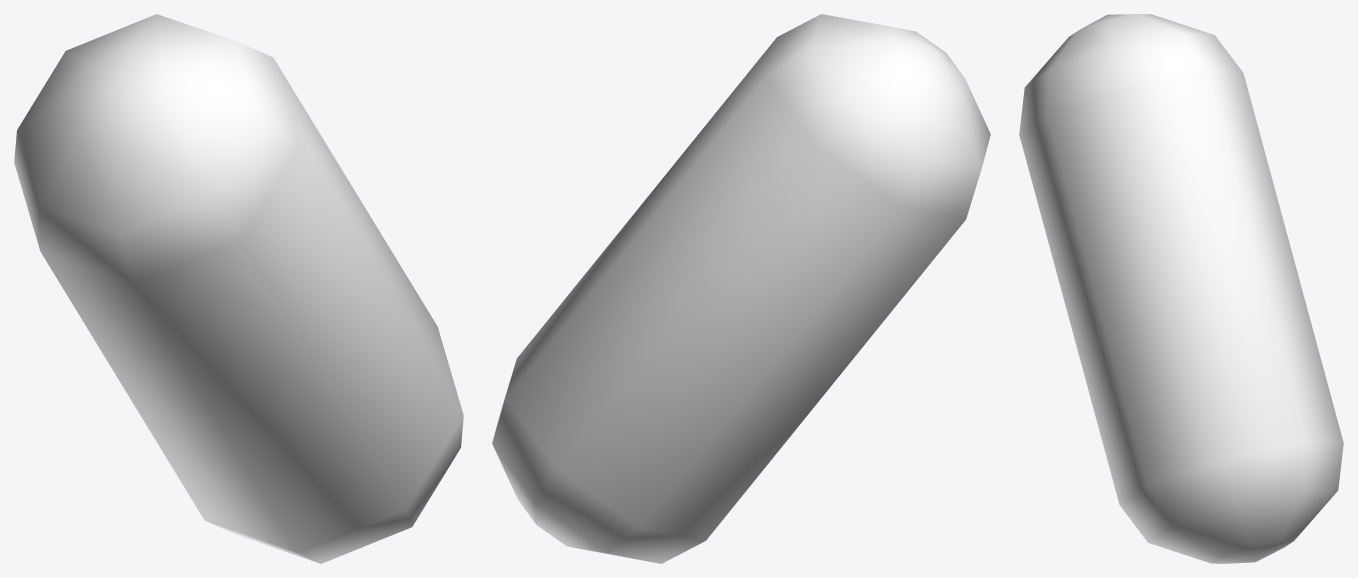
The model's file is shipScrapPart_01.glb.
3 renders of one model, left to right at view 1: azimuth 30°, elevation 25°; view 2: azimuth 150°, elevation 25°; view 3: azimuth 270°, elevation 25°, orthographic. The views are drawn at different scales.
Visible parts, largest first — view 1: shipScrapPart_01; view 2: shipScrapPart_01; view 3: shipScrapPart_01.
Part boxes in pixels (x1,y1,x2,y2): shipScrapPart_01: (14, 14, 463, 563); shipScrapPart_01: (492, 14, 990, 563); shipScrapPart_01: (1019, 14, 1343, 563).
Bounding box in the file's own units: 0.9413 × 1.12 × 0.7338.
1 material, 1 textured.
